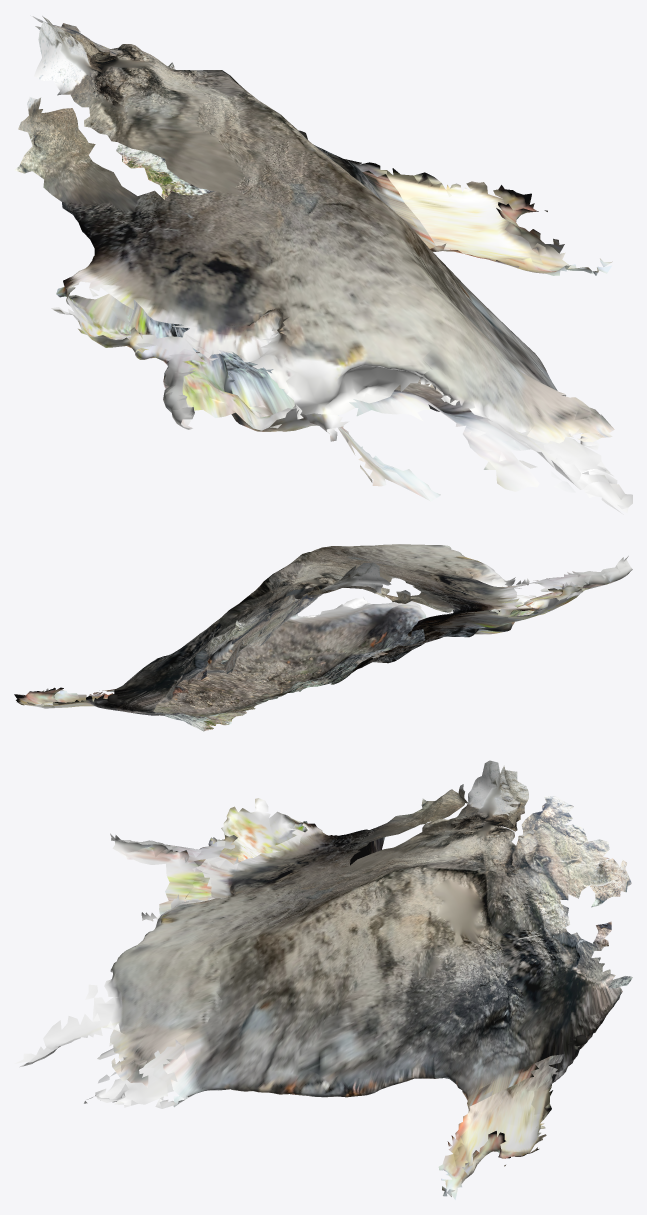
File: abound_20261122-1425.glb
The picture shows the model from 3 angles, top to bottom: view 1: azimuth 30°, elevation 25°; view 2: azimuth 150°, elevation 25°; view 3: azimuth 270°, elevation 25°; orthographic projection. The views are drawn at different scales.
Visible parts, largest first — view 1: Scene; view 2: Scene; view 3: Scene.
Boxes of the visible parts, left/top/right/bottom form: Scene: left=14, top=16, right=632, bottom=514; Scene: left=14, top=544, right=632, bottom=731; Scene: left=14, top=760, right=632, bottom=1199.
Size of the model in its own units: 2.76 by 1.36 by 2.98.
Materials: 2 (2 with a texture image).
